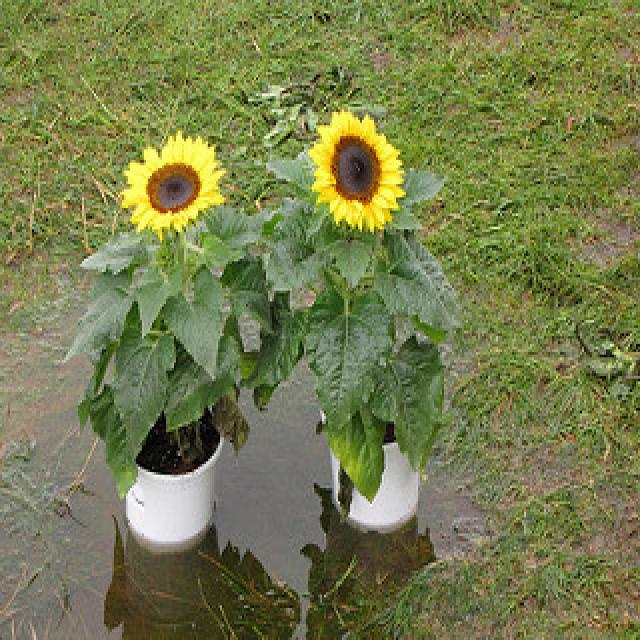sunflower: (308, 100, 414, 239), (120, 121, 226, 244)
